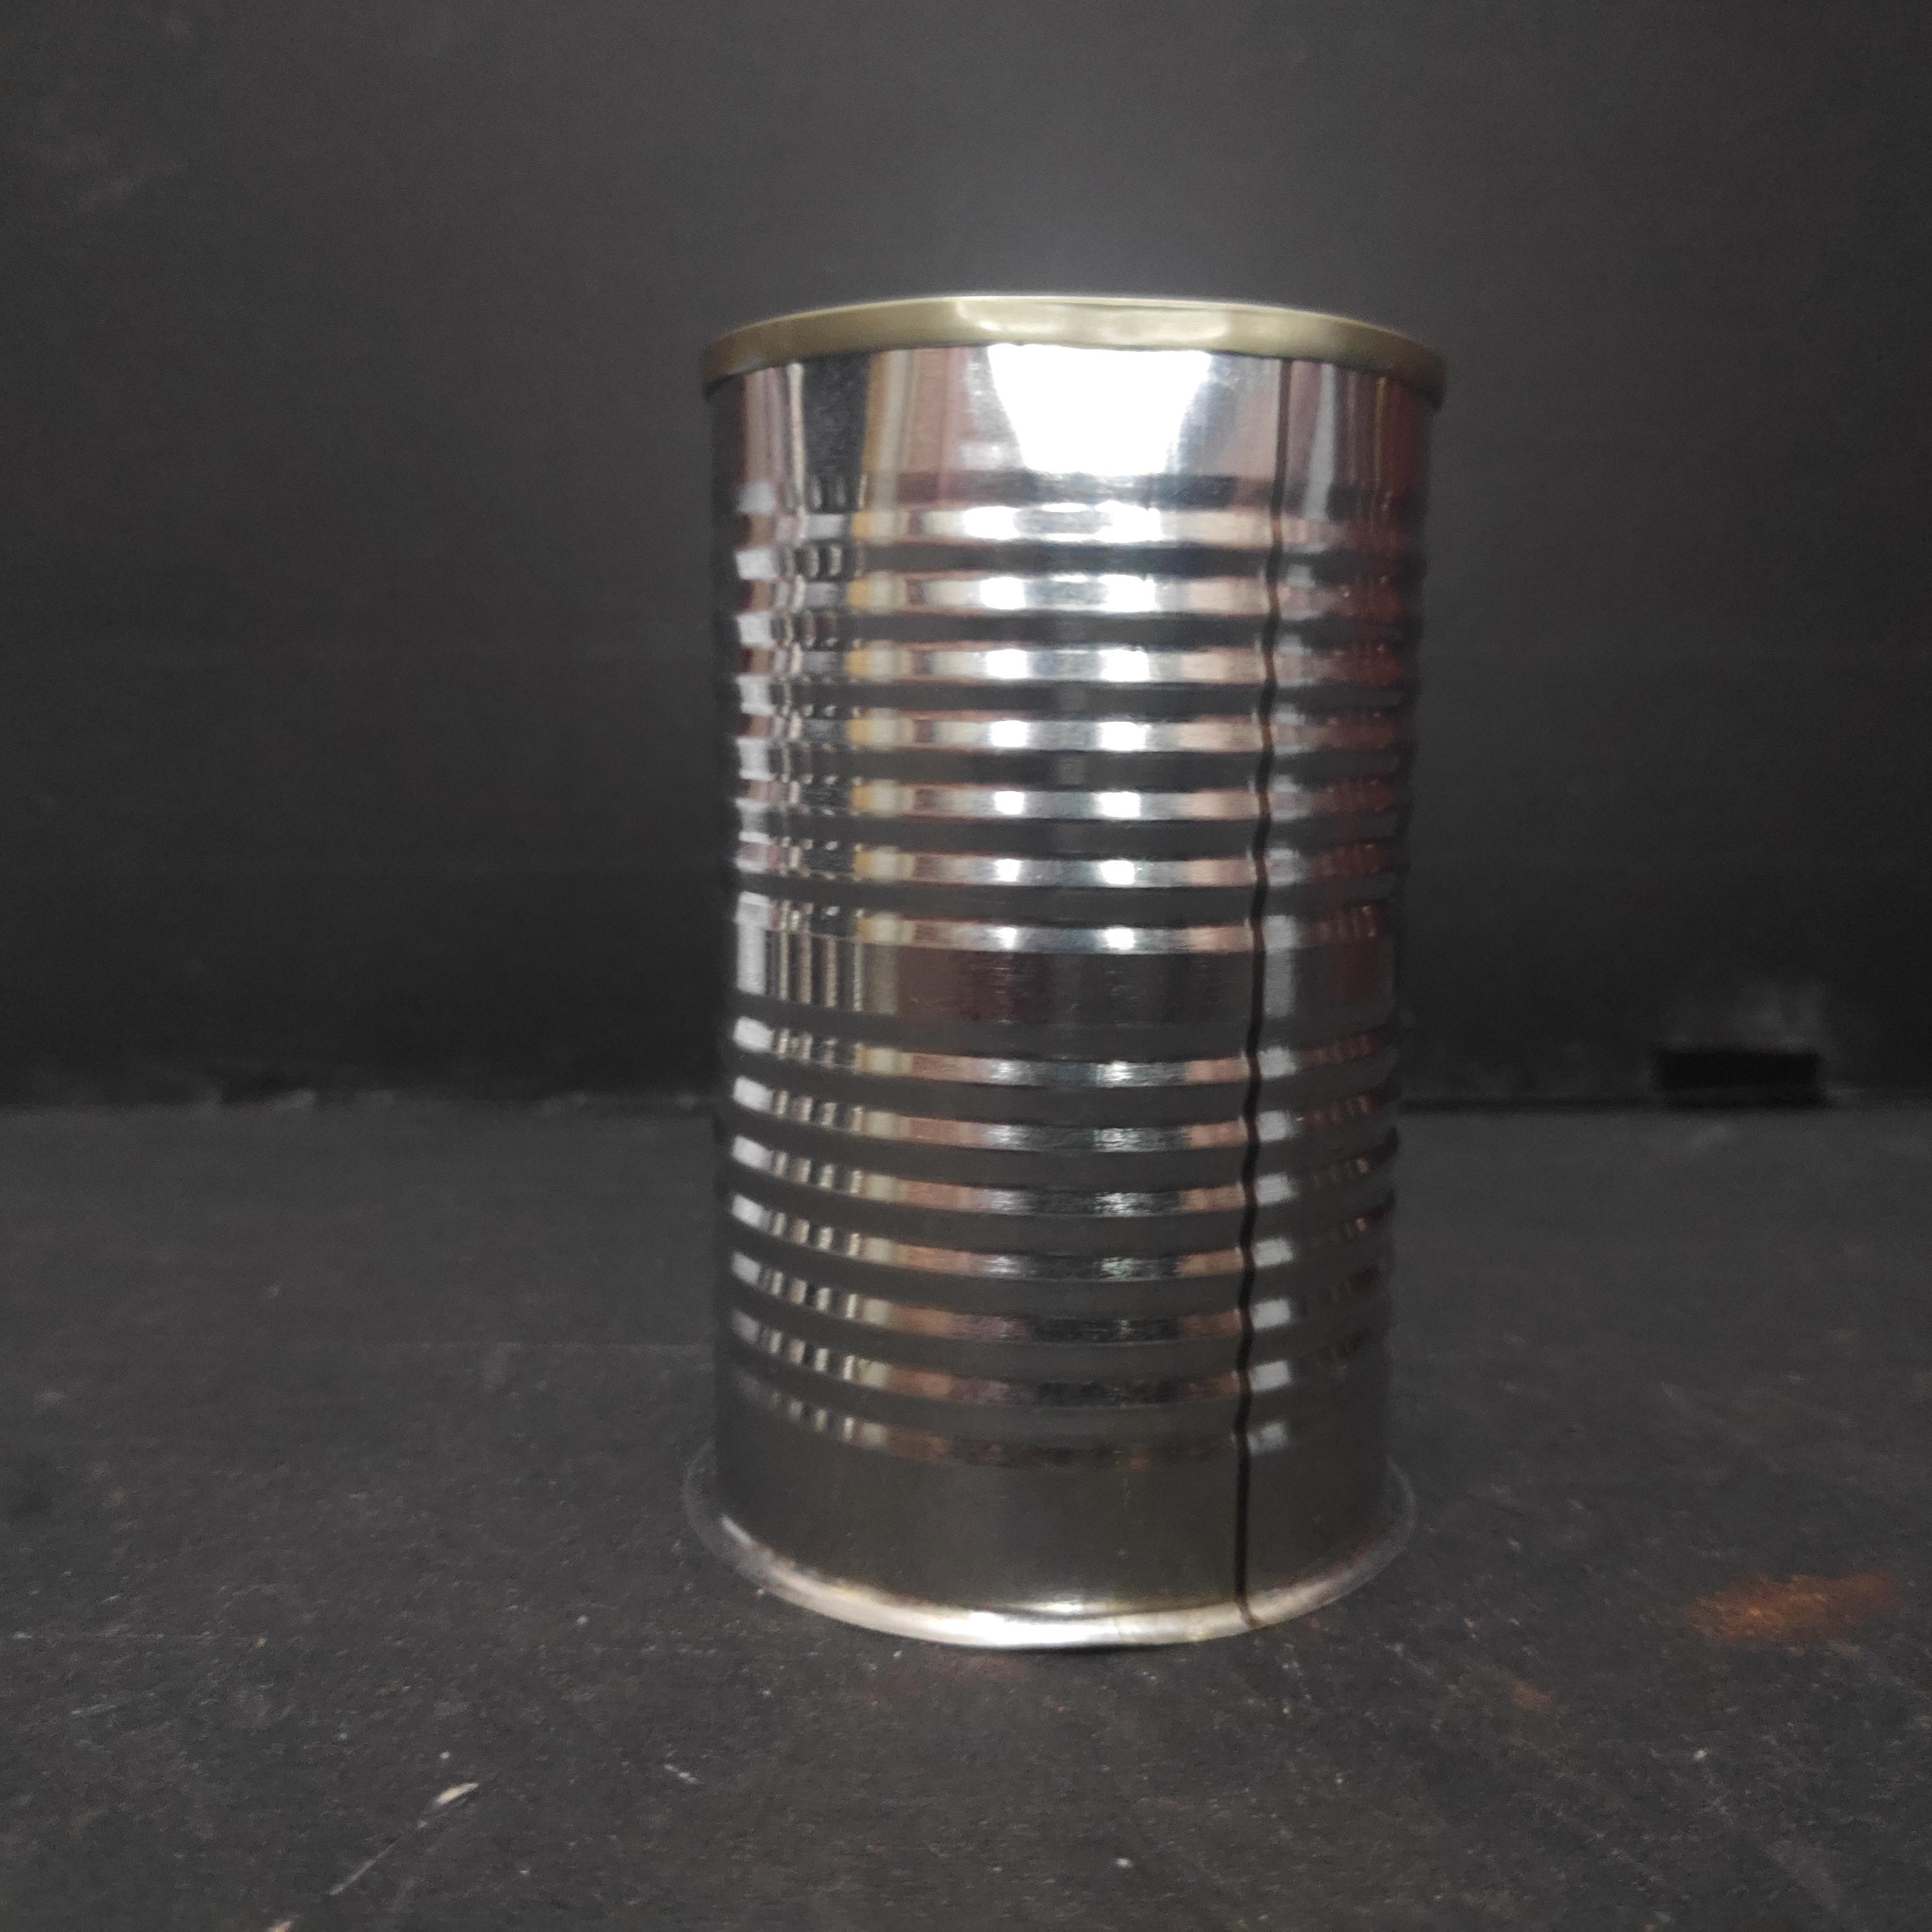Minor Defect: (692, 278, 1447, 1663)
